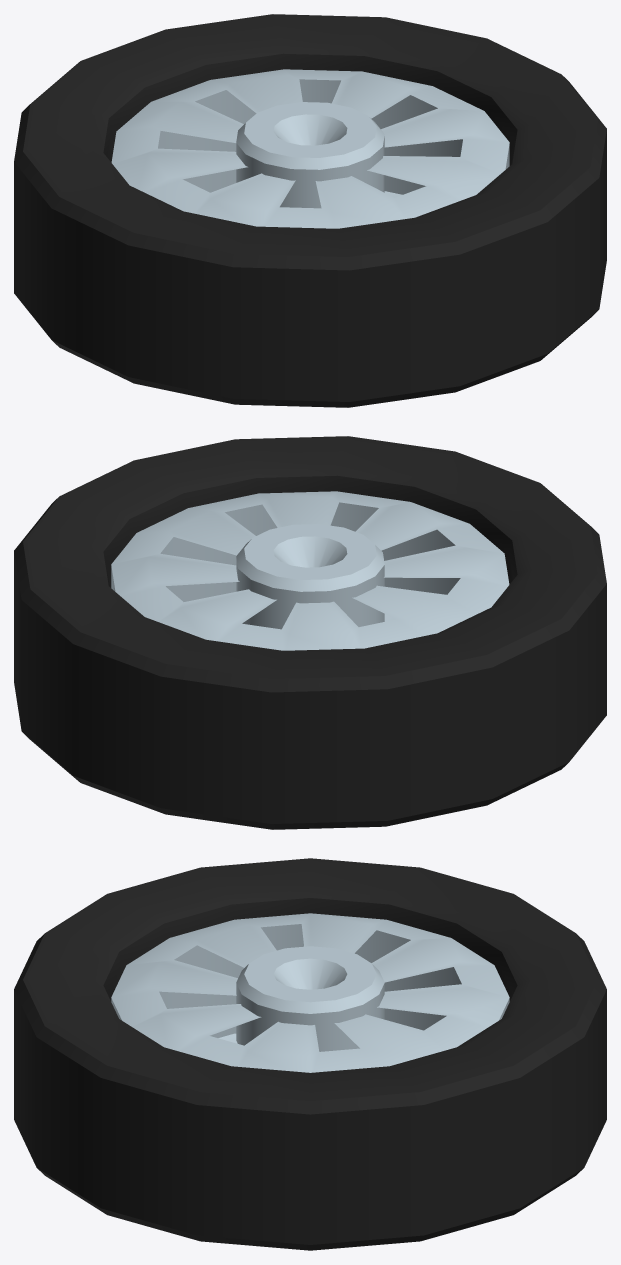
Rendered from SM_tire_01.fbx.
3 renders of one model, top to bottom at view 1: azimuth 30°, elevation 25°; view 2: azimuth 150°, elevation 25°; view 3: azimuth 270°, elevation 25°, orthographic.
Visible parts, largest first — view 1: tire_01; view 2: tire_01; view 3: tire_01.
Boxes of the visible parts, box(x1,y1,x2,y2) form: tire_01: box(14, 14, 606, 407); tire_01: box(14, 436, 606, 829); tire_01: box(14, 858, 606, 1250).
Size of the model in its own units: 125 by 37.46 by 125.
